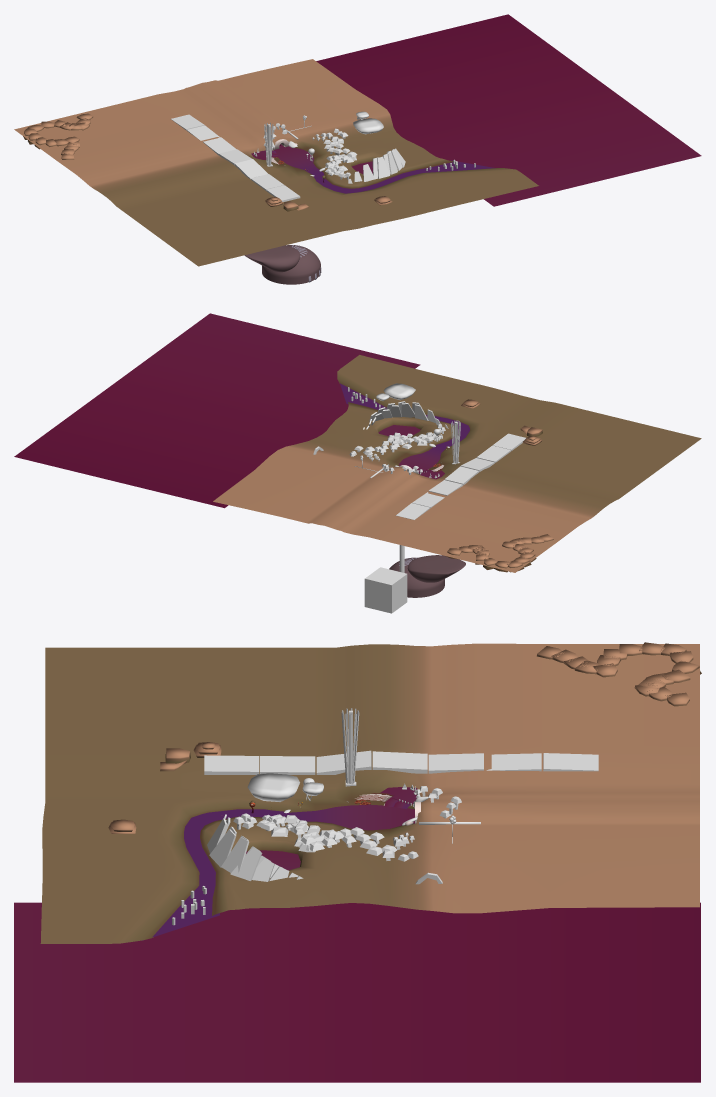
The model's file is ImpressionistLul1.fbx.
3 views of the same model, one above another, from view 1: azimuth 30°, elevation 25°; view 2: azimuth 150°, elevation 25°; view 3: azimuth 270°, elevation 25° (orthographic). The views are drawn at different scales.
Parts seen in each view (by area): view 1: ground, ocean plane, waterPlane, Cylinder.024, rock.006, Cube.220; view 2: ground, ocean plane, Cube.176, waterPlane, rock.006, Cylinder.024; view 3: ground, ocean plane, waterPlane, Cube.220, Cube.007, Cube.221, Cube.006, Cube.085, Cube.223, Cube.222, Cube.017.
Boxes of the visible parts, bbox=[...] form: ground: bbox=[14, 59, 538, 266]; ocean plane: bbox=[316, 14, 701, 206]; waterPlane: bbox=[274, 146, 495, 193]; Cylinder.024: bbox=[262, 245, 320, 284]; rock.006: bbox=[244, 245, 300, 272]; Cube.220: bbox=[353, 111, 383, 134]; ground: bbox=[213, 355, 701, 572]; ocean plane: bbox=[14, 313, 420, 508]; Cube.176: bbox=[364, 567, 407, 613]; waterPlane: bbox=[340, 383, 469, 472]; rock.006: bbox=[407, 555, 465, 582]; Cylinder.024: bbox=[389, 557, 444, 597]; ground: bbox=[40, 643, 699, 943]; ocean plane: bbox=[14, 902, 700, 1082]; waterPlane: bbox=[142, 804, 414, 940]; Cube.220: bbox=[247, 773, 323, 801]; Cube.007: bbox=[372, 751, 427, 773]; Cube.221: bbox=[204, 755, 259, 774]; Cube.006: bbox=[428, 753, 483, 773]; Cube.085: bbox=[260, 756, 315, 774]; Cube.223: bbox=[543, 753, 598, 771]; Cube.222: bbox=[486, 753, 541, 771]; Cube.017: bbox=[316, 750, 371, 774].
Bounding box in the file's own units: 2620 × 819 × 1777.
